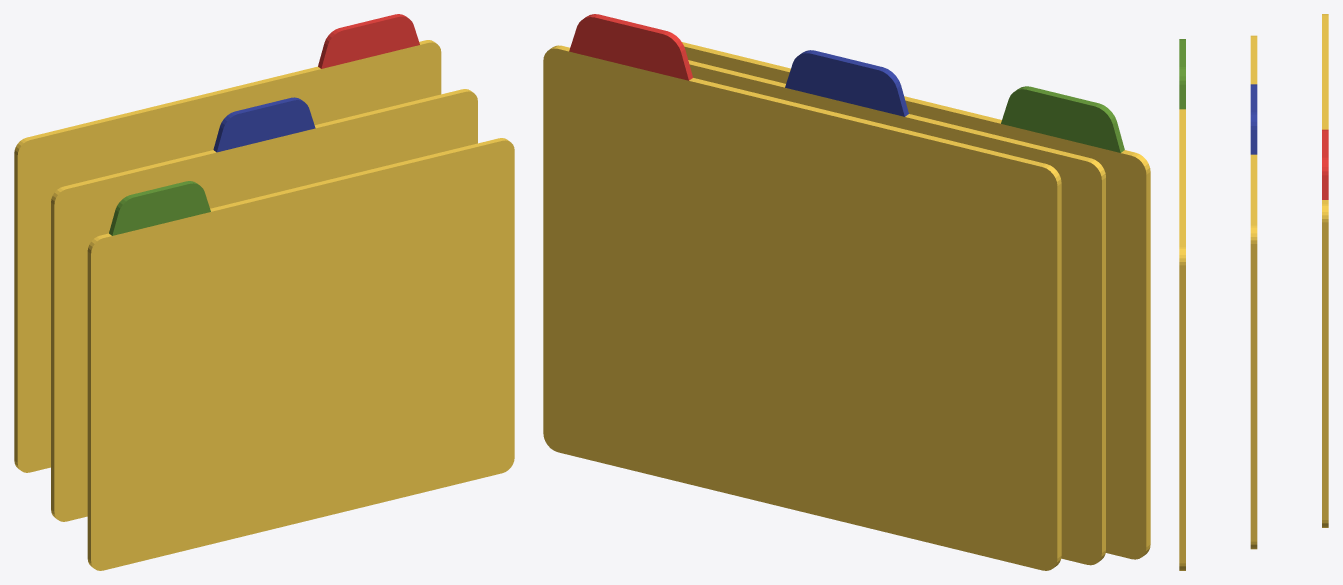
The model's file is card_index_dividers.glb.
3 views of the same model, side by side, from view 1: azimuth 30°, elevation 25°; view 2: azimuth 150°, elevation 25°; view 3: azimuth 270°, elevation 25° (orthographic). The views are drawn at different scales.
Parts seen in each view (by area): view 1: Cube.978, Cube.980, Cube.981; view 2: Cube.980, Cube.981, Cube.978; view 3: Cube.981, Cube.978, Cube.980.
Boxes of the visible parts, bbox=[...] form: Cube.978: bbox=[87, 138, 514, 570]; Cube.980: bbox=[14, 14, 441, 472]; Cube.981: bbox=[51, 89, 477, 521]; Cube.980: bbox=[543, 14, 1061, 570]; Cube.981: bbox=[688, 50, 1105, 565]; Cube.978: bbox=[682, 42, 1150, 559]; Cube.981: bbox=[1250, 35, 1257, 549]; Cube.978: bbox=[1179, 39, 1185, 570]; Cube.980: bbox=[1322, 14, 1328, 527].
Size of the model in its own units: 2 by 1.85 by 0.6281.
1 material, 1 textured.
